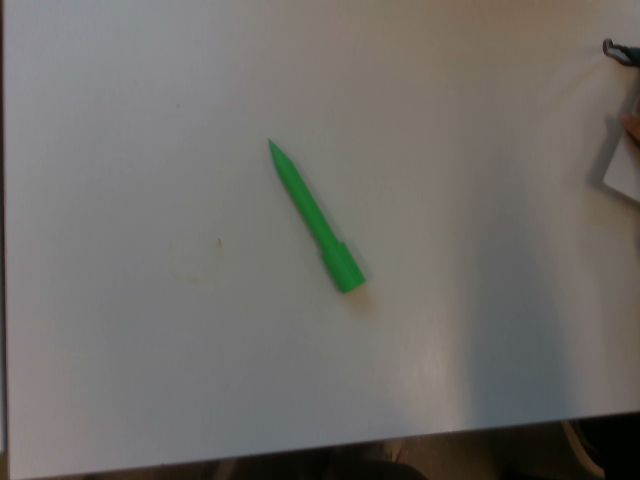Probe: (263, 129, 371, 302)
